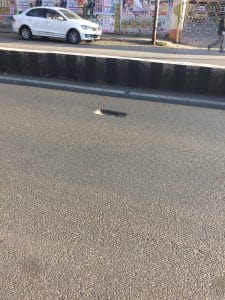pothole: (84, 97, 134, 135)
